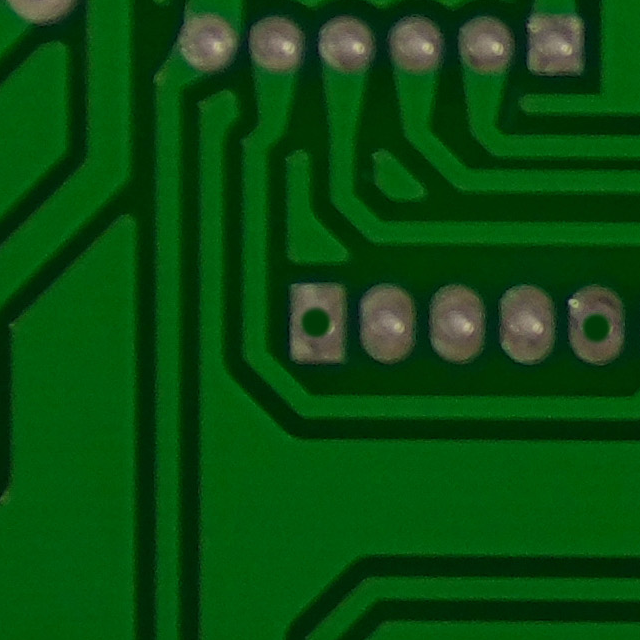missing_hole: (282, 276, 358, 364), (561, 281, 636, 369)
